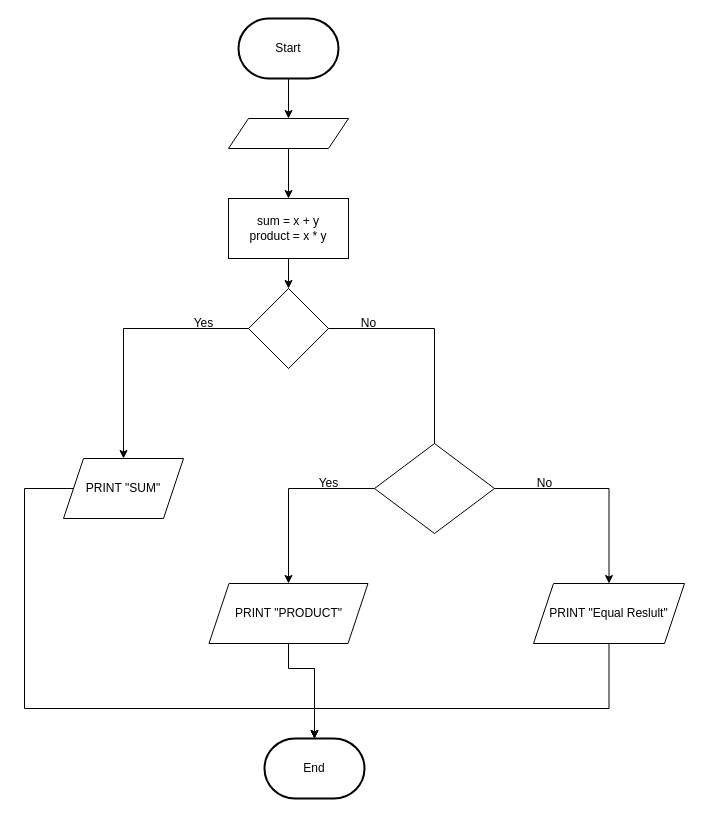
The diagram is 702 pixels wide and 816 high, and some of its shapes have lost their labels. Each missing label, with the box of its shape:
else if product > sum: (374, 442, 494, 534)
if sum > product: (248, 288, 328, 368)
INPUT x, y: (228, 118, 348, 148)
